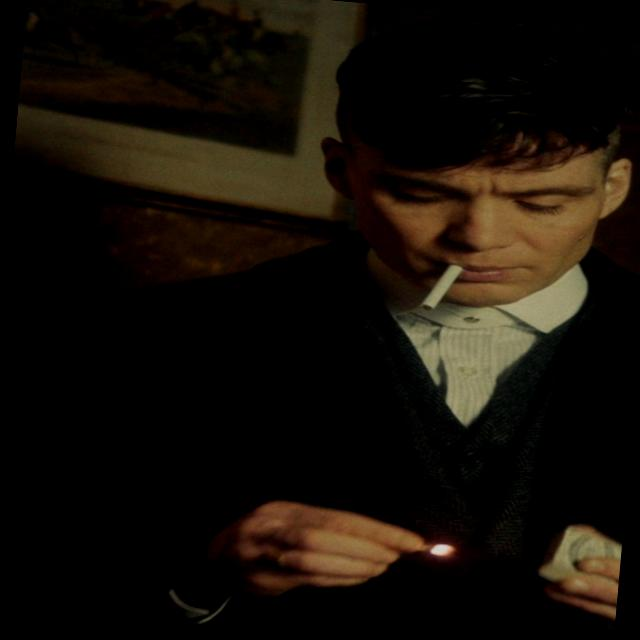smoke: (409, 252, 480, 316)
